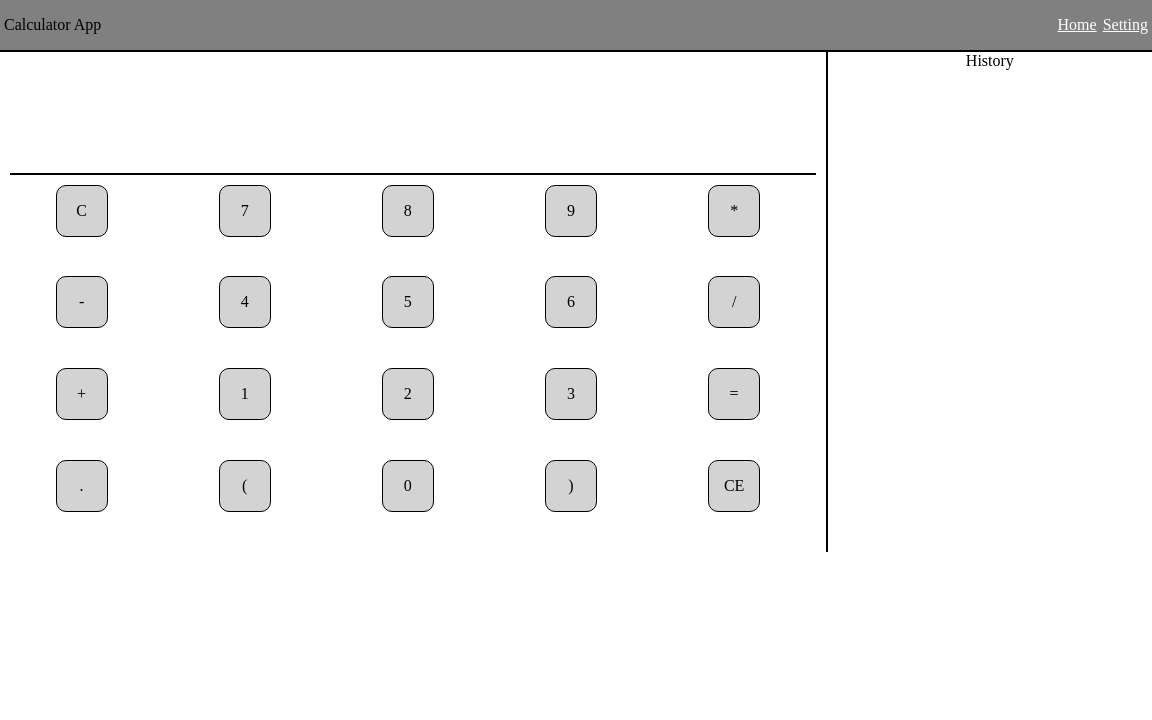
App E2E › check keypad and display work
Click the text "1".
click(245, 394)  # box [219,368,271,420]
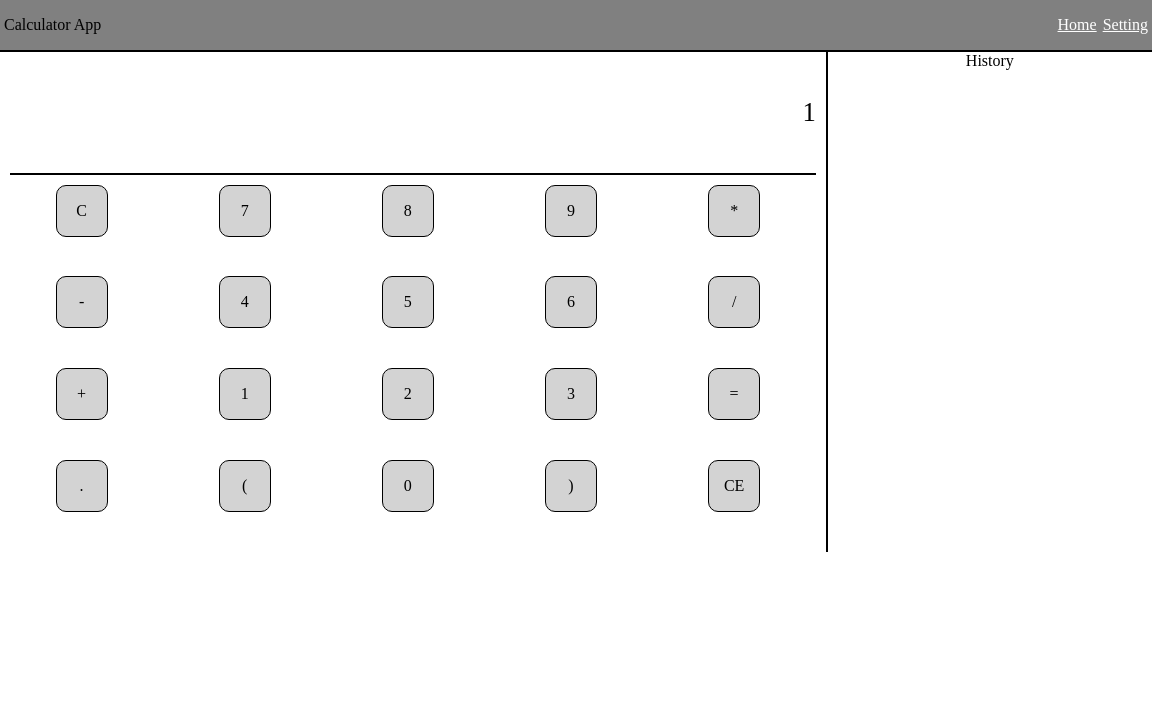
Click the text "2".
click(408, 394)  # box [382,368,434,420]
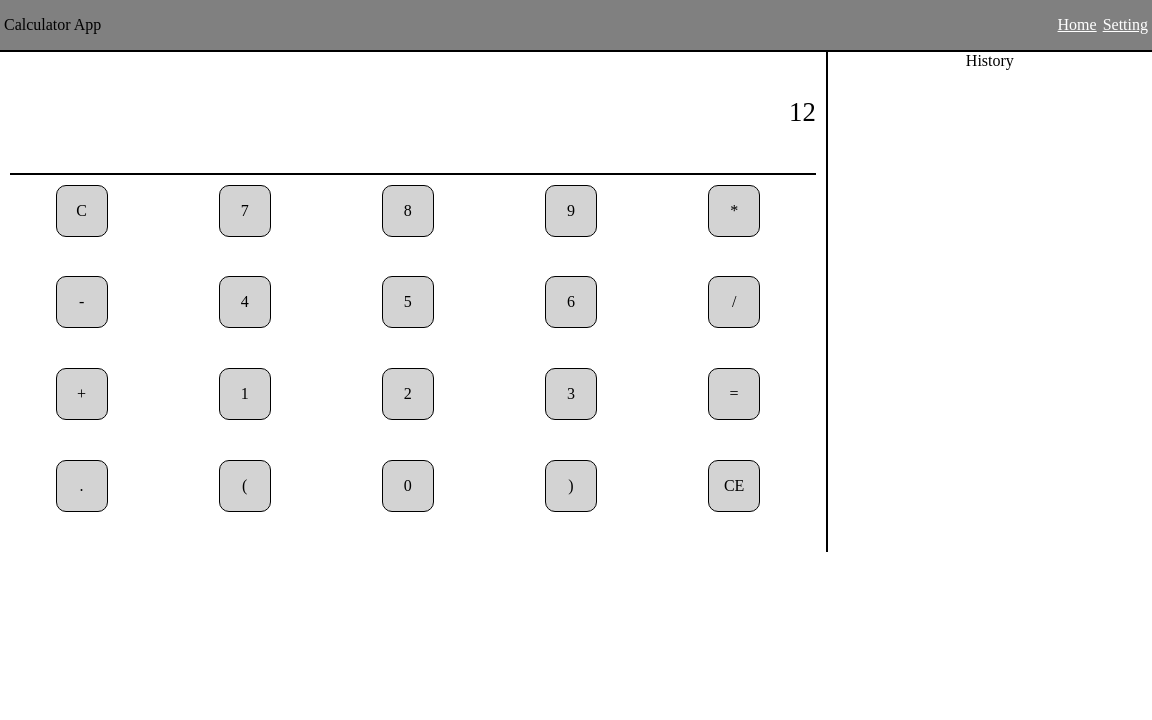
Now the text "12" is shown, box [10,52,816,174]
Click the text ".".
click(82, 486)  # box [56,460,108,512]
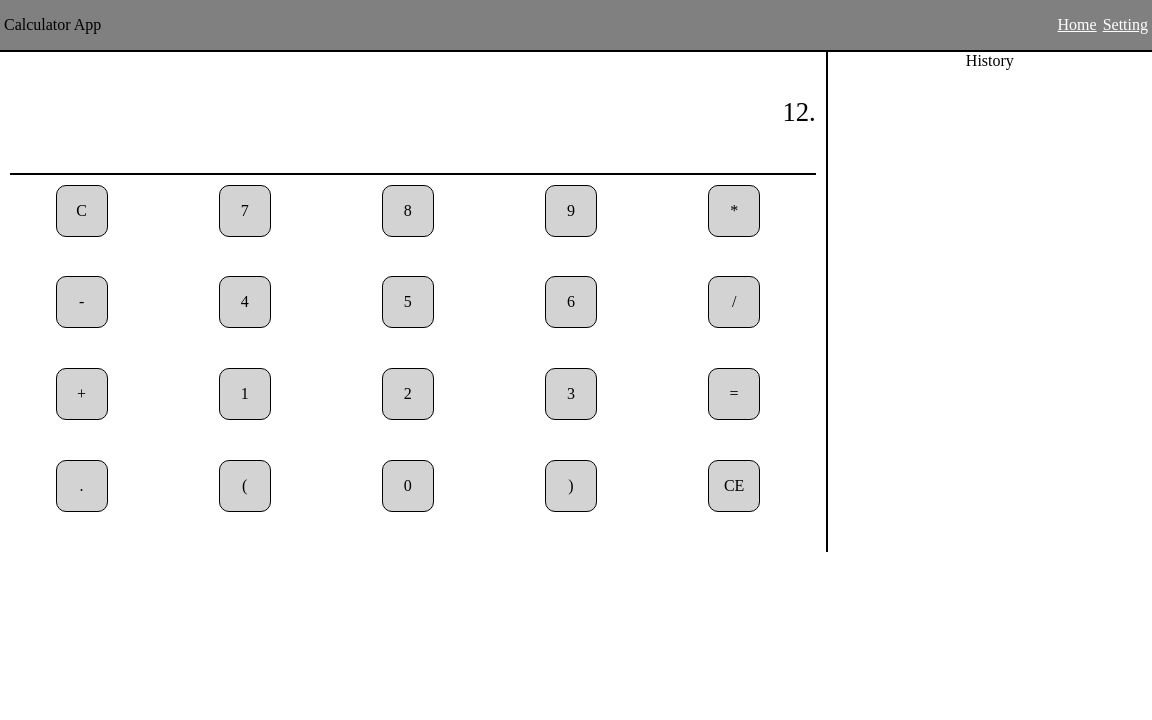
Click the text "4".
click(245, 302)  # box [219,276,271,328]
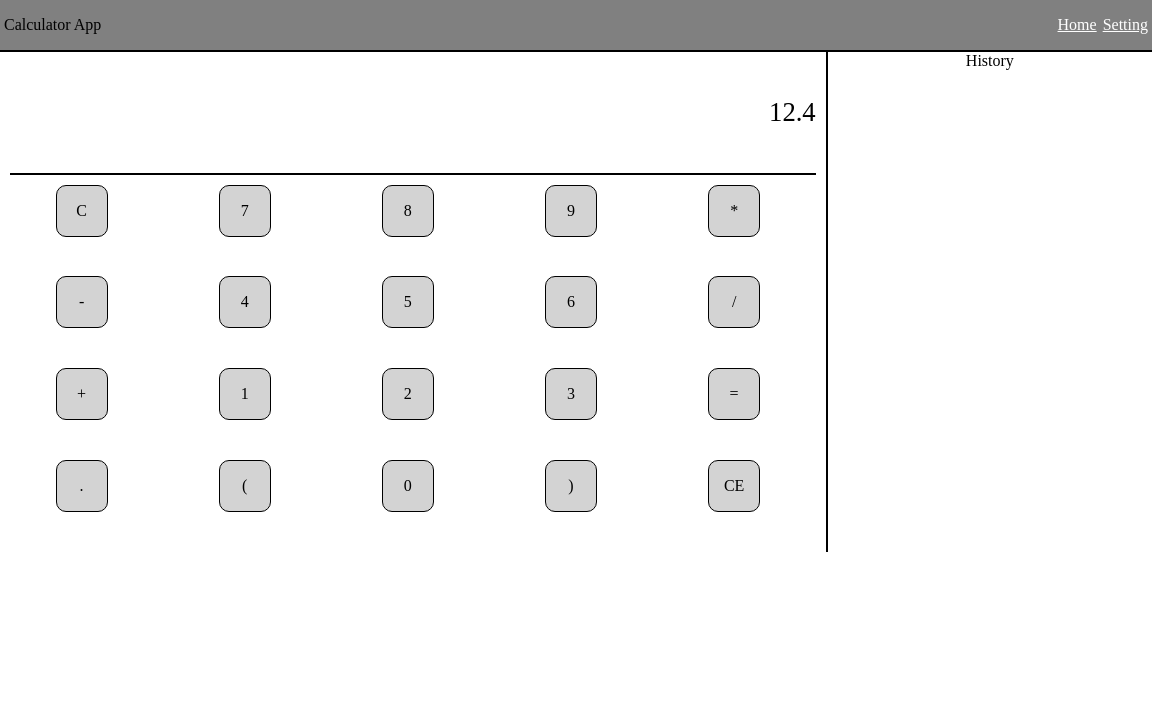
Now the text "12.4" is shown, box [10,52,816,174]
